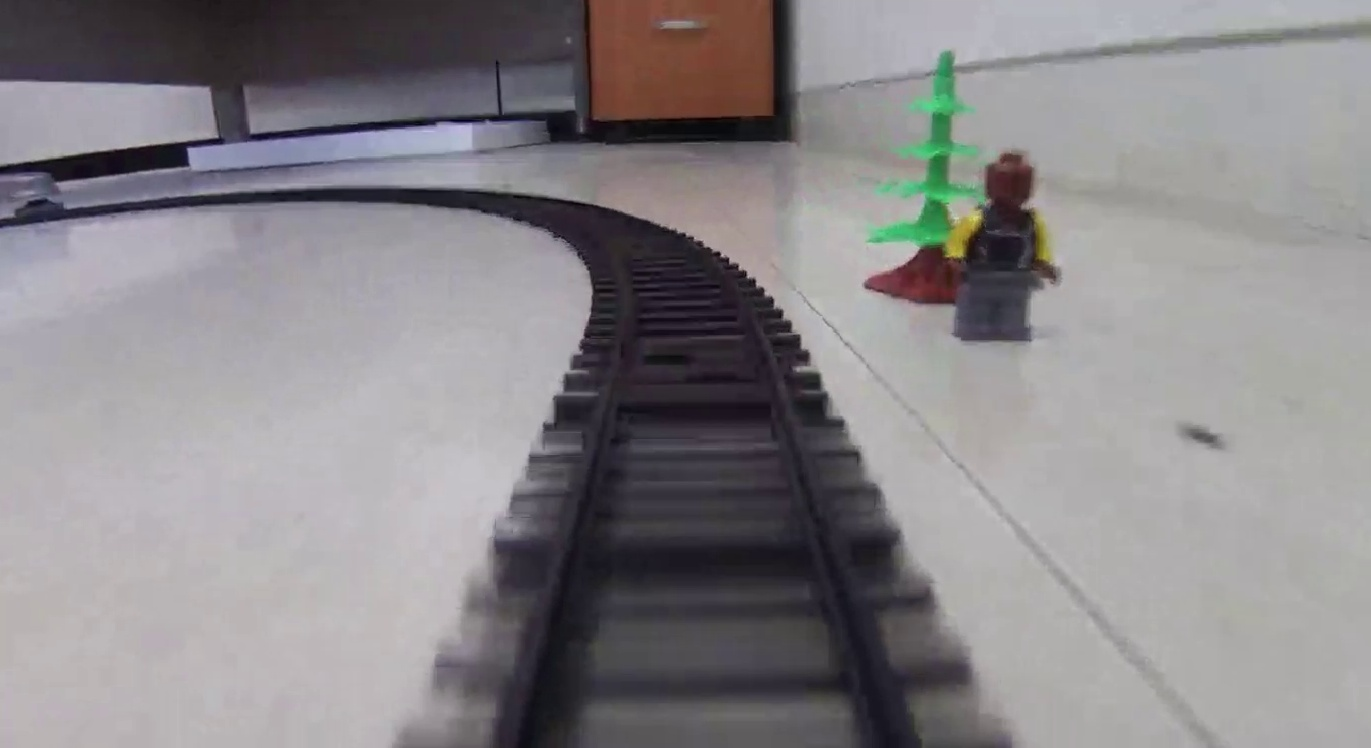people: (948, 150, 1058, 342)
tree: (862, 49, 984, 308)
